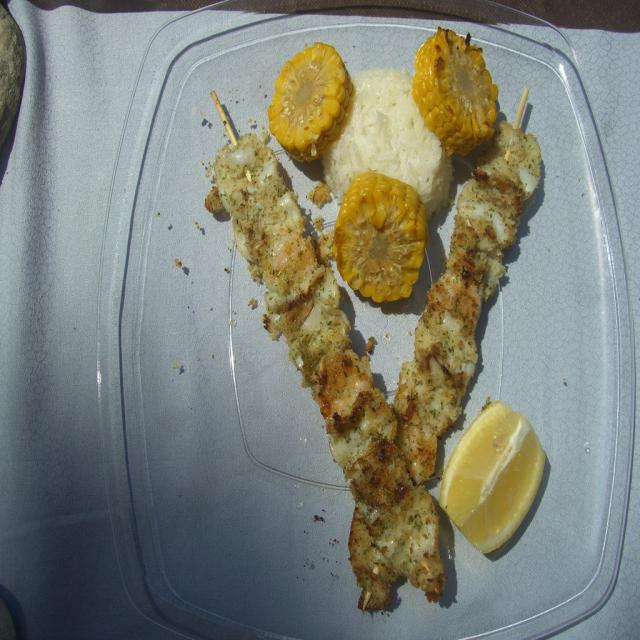Lemon: (439, 400, 548, 554)
